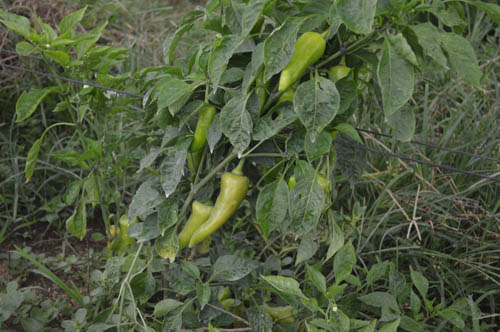ChiliPepper: (189, 173, 247, 250), (271, 33, 325, 92), (181, 199, 211, 254), (191, 106, 212, 151)
